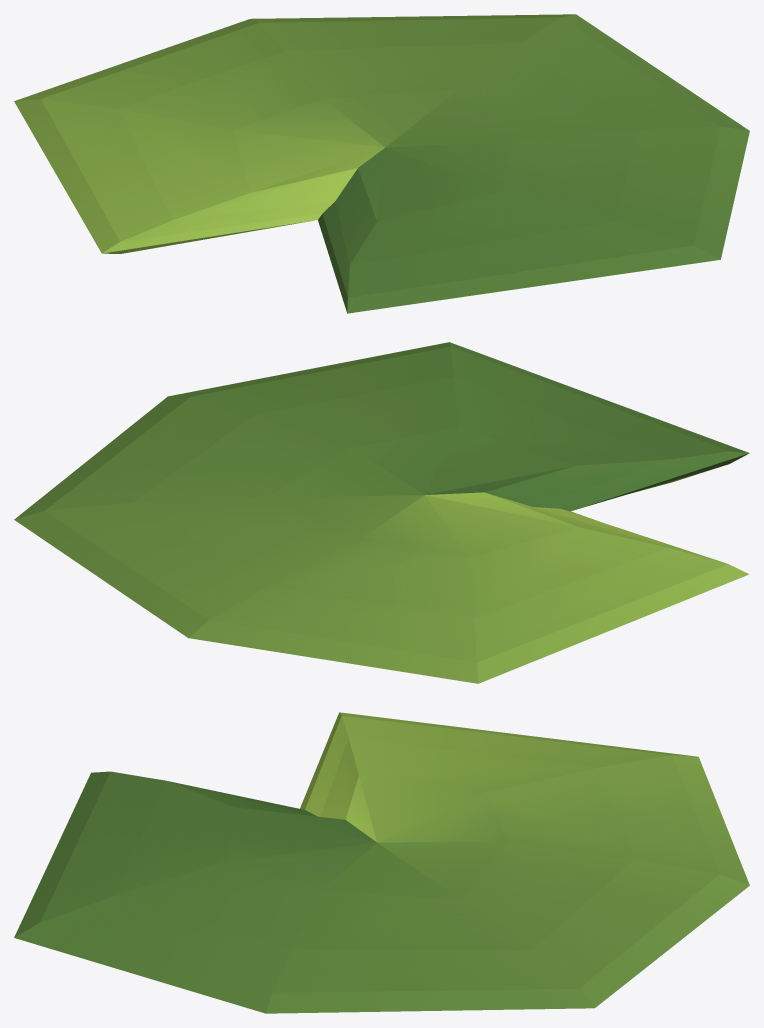
The model's file is lilypad2.fbx.
The picture shows the model from 3 angles, top to bottom: view 1: azimuth 30°, elevation 25°; view 2: azimuth 150°, elevation 25°; view 3: azimuth 270°, elevation 25°; orthographic projection.
Visible parts, largest first — view 1: lilypads.002; view 2: lilypads.002; view 3: lilypads.002.
Part boxes in pixels (left/top/right/bottom): lilypads.002: left=14, top=14, right=749, bottom=313; lilypads.002: left=14, top=342, right=749, bottom=683; lilypads.002: left=14, top=712, right=749, bottom=1013.
Bounding box in the file's own units: 1421 × 89 × 1466.
